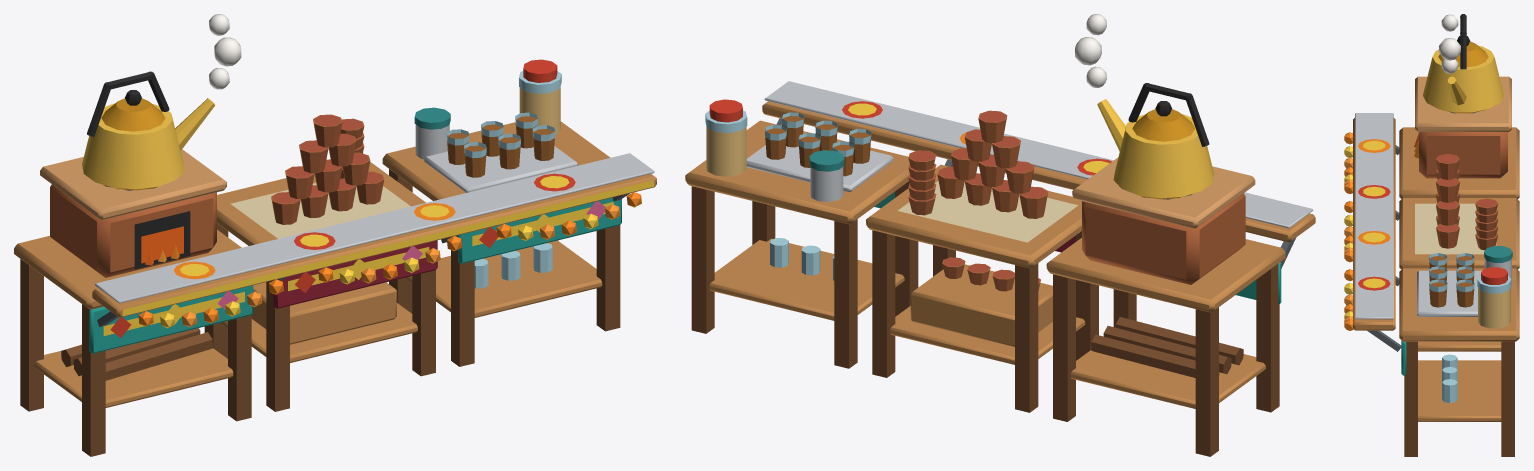
Rendered from chai_counter_v3.glb.
The picture shows the model from 3 angles, left to right: view 1: azimuth 30°, elevation 25°; view 2: azimuth 150°, elevation 25°; view 3: azimuth 270°, elevation 25°; orthographic projection. The views are drawn at different scales.
Visible parts, largest first — view 1: chai_counter_v3; view 2: chai_counter_v3; view 3: chai_counter_v3.
Part boxes in pixels (x1,y1,x2,y2): chai_counter_v3: (14,14,656,456); chai_counter_v3: (685,14,1315,456); chai_counter_v3: (1344,14,1519,456).
Bounding box in the file's own units: 2.52 × 1.7 × 0.9048.
Materials: 1 (1 with a texture image).
